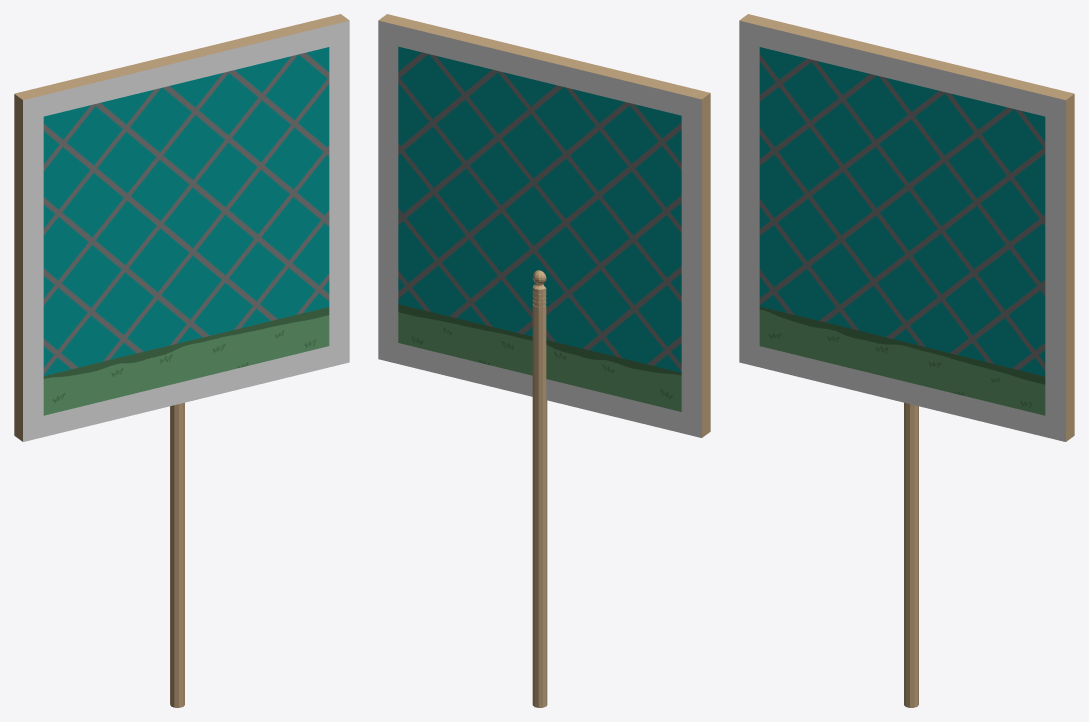
Rendered from Escena1_Escenario01.fbx.
3 views of the same model, side by side, from view 1: azimuth 30°, elevation 25°; view 2: azimuth 150°, elevation 25°; view 3: azimuth 330°, elevation 25° (orthographic).
Parts seen in each view (by area): view 1: SCN01; view 2: SCN01; view 3: SCN01.
Boxes of the visible parts, x1,y1,x2,y2 form: SCN01: [14, 14, 349, 707]; SCN01: [378, 14, 710, 707]; SCN01: [739, 14, 1074, 707].
Size of the model in its own units: 0.0835 by 0.159 by 0.00554.
